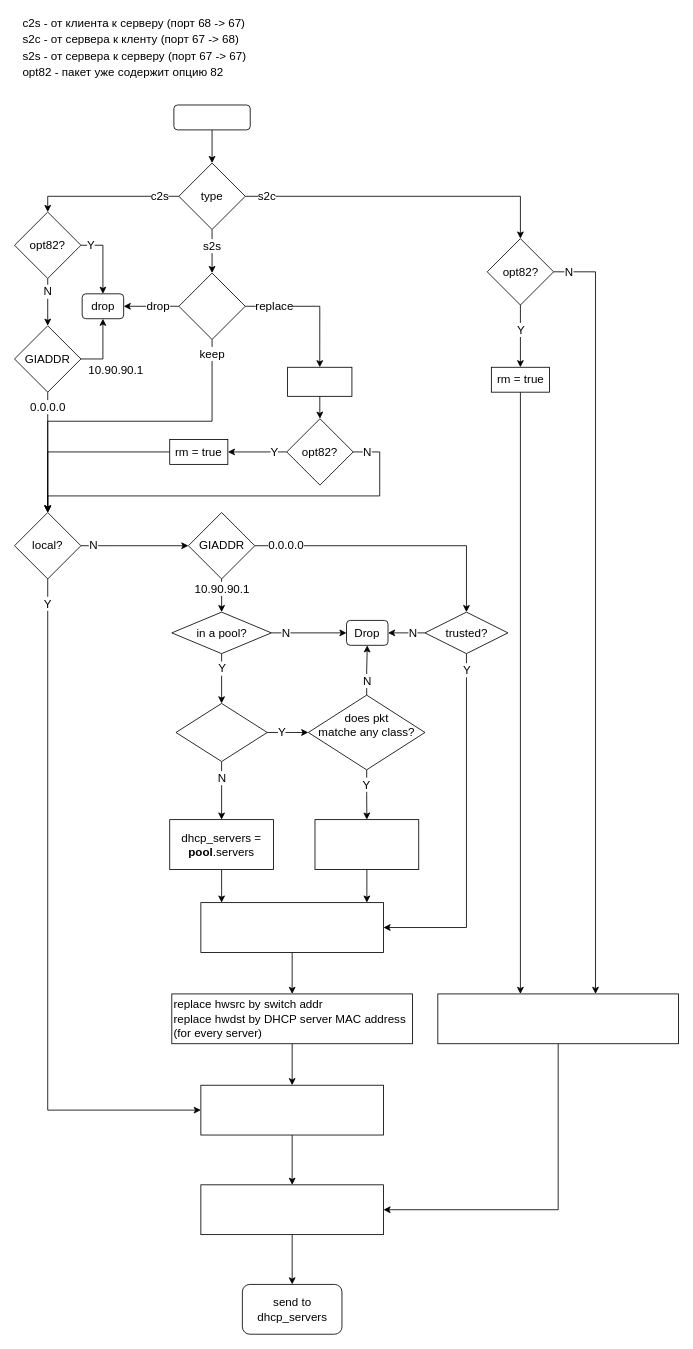
Some shapes in this 693 by 1349 pixel diagram are drawn without their labels. Here are the shapes that lost their labels. From the top down, the centre of each, then its label:
point 211,117: recv pkt
point 211,305: policy
point 319,381: add = true
point 221,732: has pool classes?
point 366,844: dhcp_servers = class .servers
point 291,927: replace GIADDR by VLAN interface address
point 558,1018: replace hwsrc by switch addr replace hwdst by DHCP.client_MAC_address
point 291,1109: increase hops
point 291,1209: remove/add opt82 by rm/add variables
